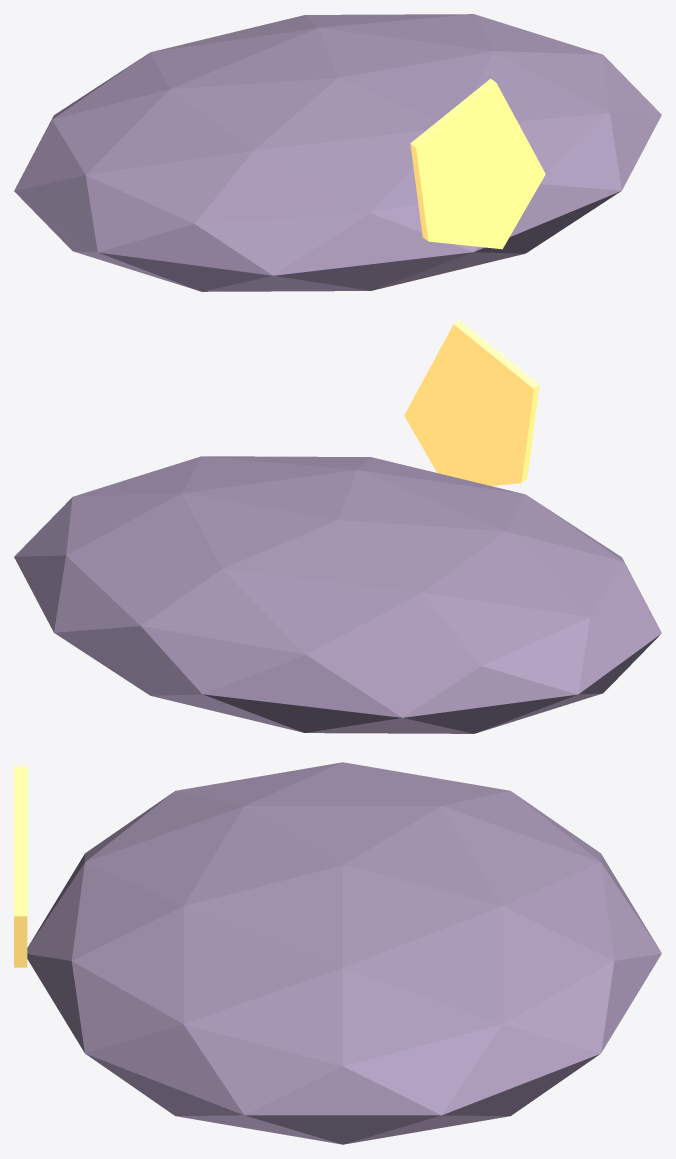
File: ember_stepping_stone.glb
3 renders of one model, top to bottom at view 1: azimuth 30°, elevation 25°; view 2: azimuth 150°, elevation 25°; view 3: azimuth 270°, elevation 25°, orthographic. The views are drawn at different scales.
Visible parts, largest first — view 1: Stone, Footprint; view 2: Stone, Footprint; view 3: Stone, Footprint.
Boxes of the visible parts, x1,y1,x2,y2 form: Stone: (14, 14, 661, 291); Footprint: (410, 78, 545, 249); Stone: (14, 456, 661, 733); Footprint: (404, 320, 539, 485); Stone: (27, 762, 661, 1144); Footprint: (14, 766, 27, 967).
Bounding box in the file's own units: 4.57 × 1.88 × 3.86.
